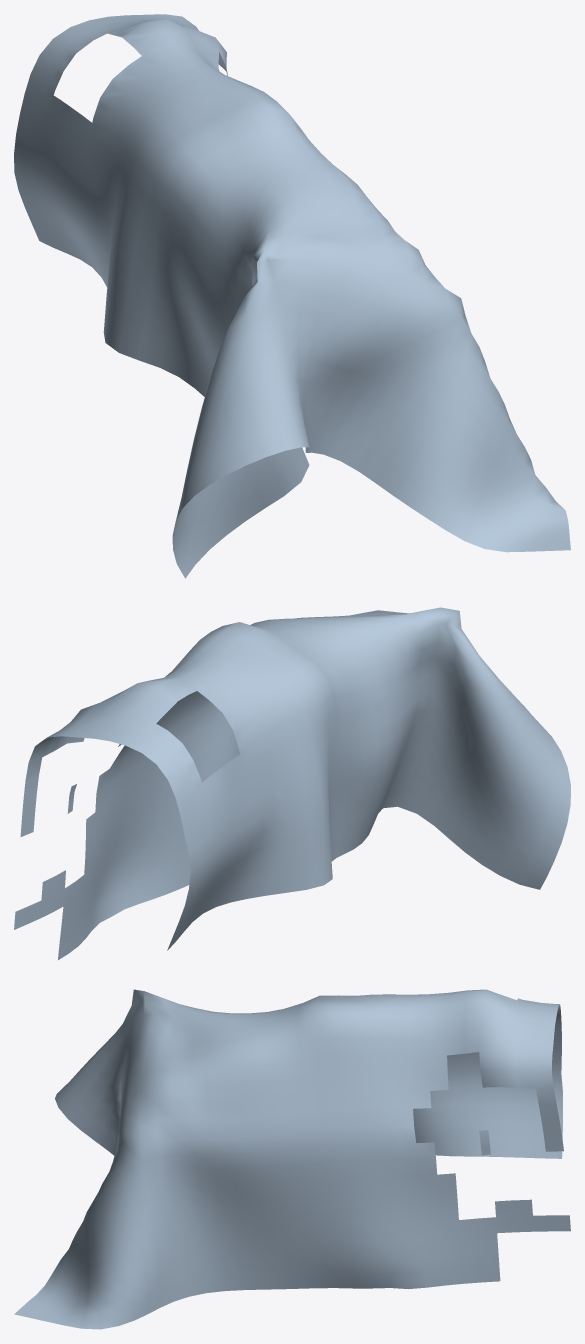
Rendered from cloth.glb.
3 views of the same model, one above another, from view 1: azimuth 30°, elevation 25°; view 2: azimuth 150°, elevation 25°; view 3: azimuth 270°, elevation 25° (orthographic). The views are drawn at different scales.
Parts seen in each view (by area): view 1: Plane.001; view 2: Plane.001; view 3: Plane.001.
Part boxes in pixels (x1,y1,x2,y2): Plane.001: (14, 14, 570, 578); Plane.001: (14, 607, 570, 959); Plane.001: (14, 989, 570, 1329).
Bounding box in the file's own units: 134 × 116 × 215.
